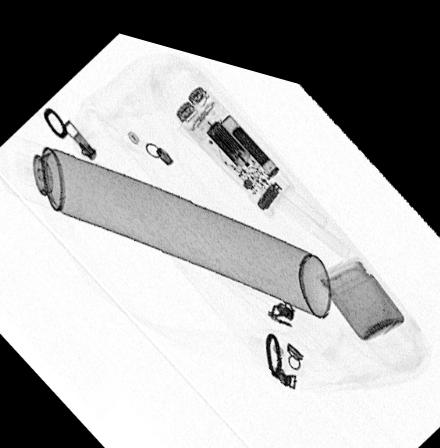Sprayer: (0, 136, 331, 300)
